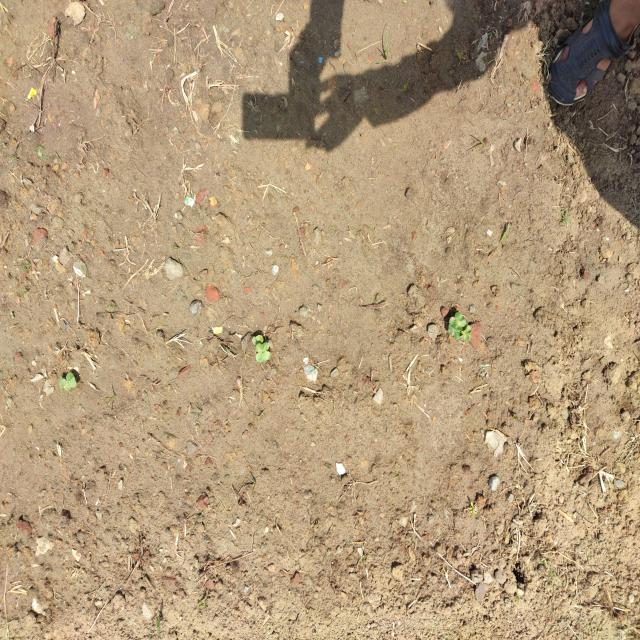seedling: (449, 312, 466, 331), (460, 325, 472, 343), (256, 351, 271, 362), (66, 373, 76, 388), (60, 378, 71, 391), (255, 342, 269, 352), (252, 335, 264, 345), (448, 324, 455, 335), (453, 331, 461, 339)
